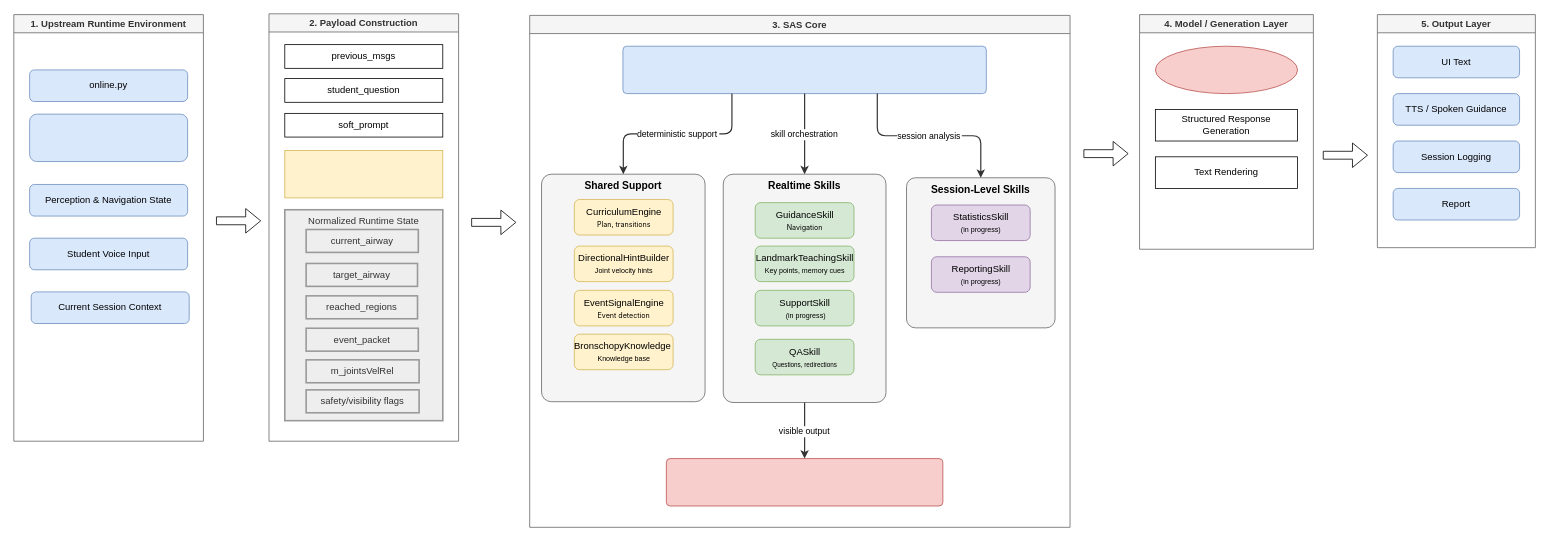
The diagram is 1549 pixels wide and 541 high, and some of its shapes have lost their labels. The shapes that lost their labels are listed below. From the top down, each one's centre as x and y in pixels, then its label:
At point (804, 69): "SAS Manager Parse → plan → dispatch skills → arbitrate → postprocess → log".
At point (1226, 69): "HF / OpenAI / LLM Backend".
At point (108, 137): "Bronchoscopy Robot-Connected Env".
At point (363, 174): "Logic Flags: need_llm, llm_reason, llm_prompt_text".
At point (804, 482): "Shared Postprocessing Trimming, cleaning, safety gating".
